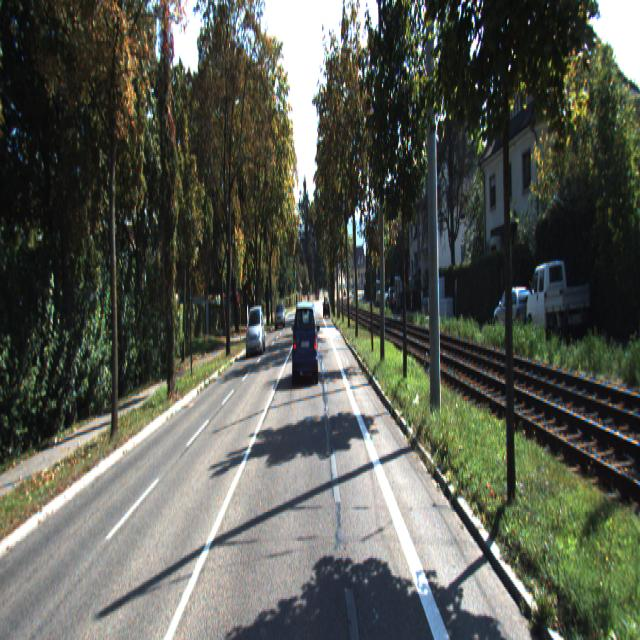Car: (292, 300, 320, 388), (493, 282, 534, 333), (246, 306, 266, 359), (274, 303, 286, 330)
DontCare: (323, 288, 330, 320)
Van: (525, 255, 590, 337), (637, 233, 639, 352)
